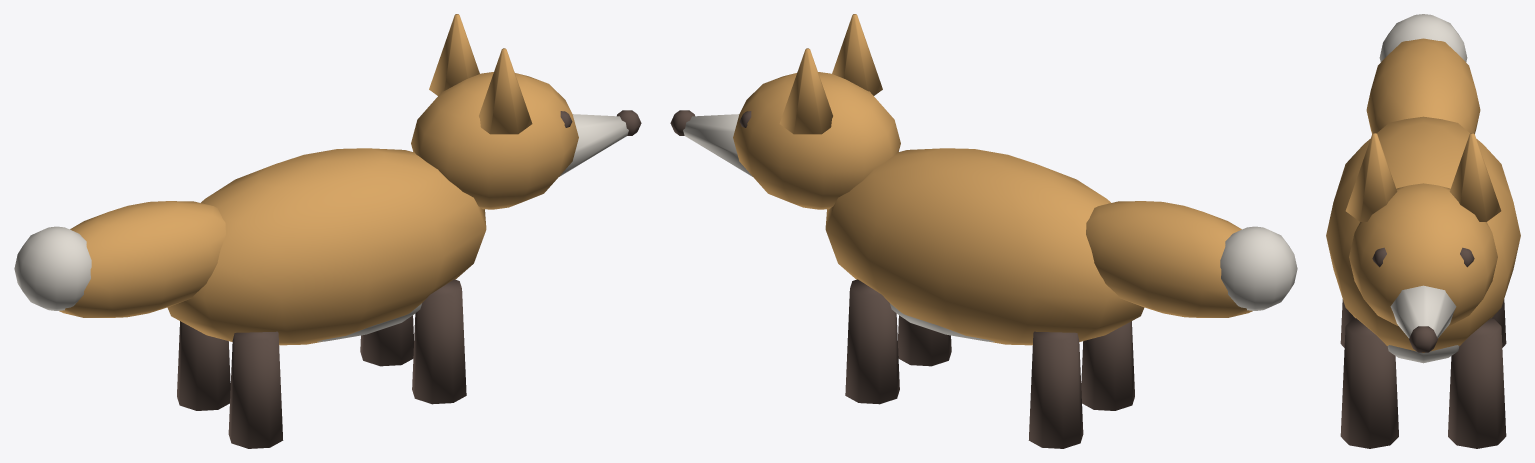
Rendered from fox.glb.
3 renders of one model, left to right at view 1: azimuth 30°, elevation 25°; view 2: azimuth 150°, elevation 25°; view 3: azimuth 270°, elevation 25°, orthographic. The views are drawn at different scales.
Parts seen in each view (by area): view 1: Fox; view 2: Fox; view 3: Fox.
Boxes of the visible parts, x1,y1,x2,y2 form: Fox: (14,14,641,448); Fox: (670,14,1297,448); Fox: (1326,14,1520,448).
Size of the model in its own units: 0.3032 by 0.1525 by 0.08.
